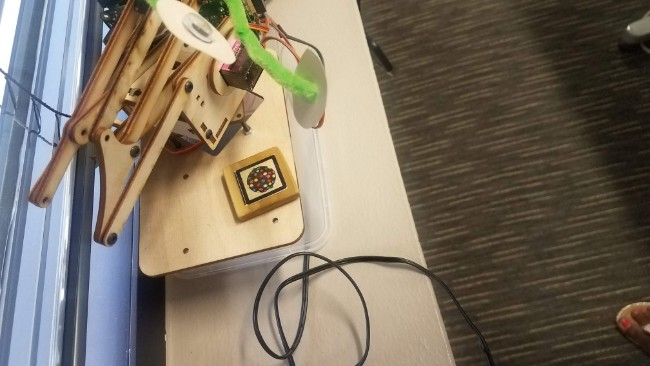cookie: (227, 151, 292, 208)
